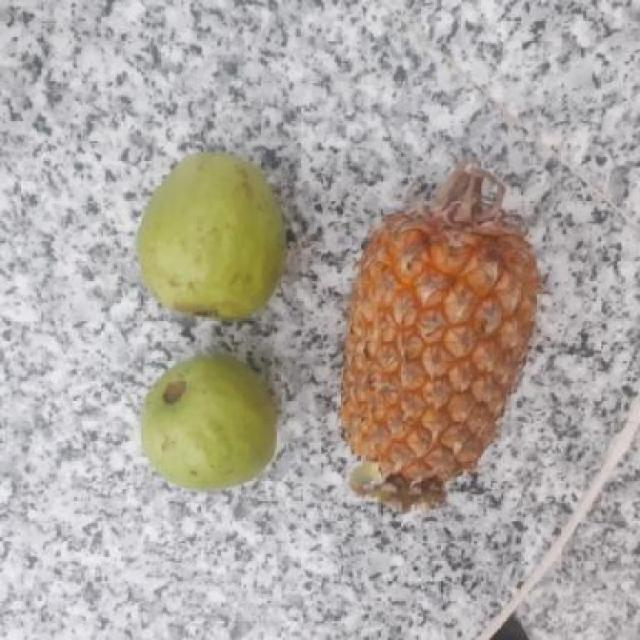guava: (130, 158, 288, 312), (130, 356, 272, 492)
pineapple: (338, 203, 538, 506)
